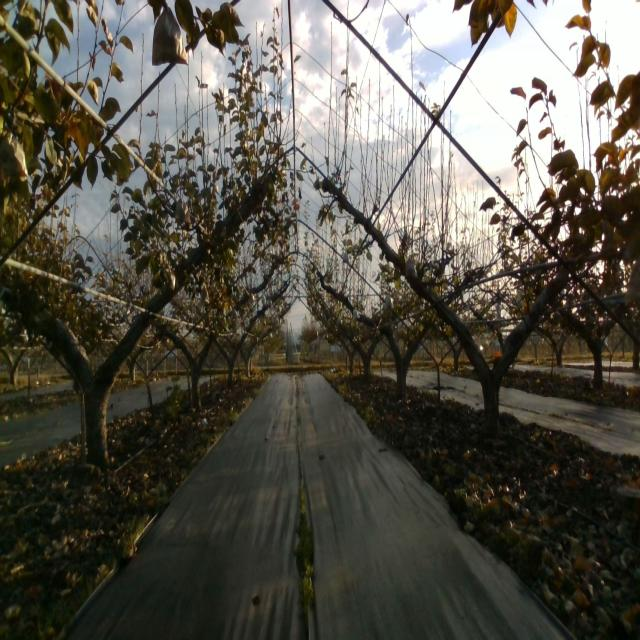pearbags: (152, 0, 189, 66), (175, 196, 191, 224), (405, 258, 417, 278)
